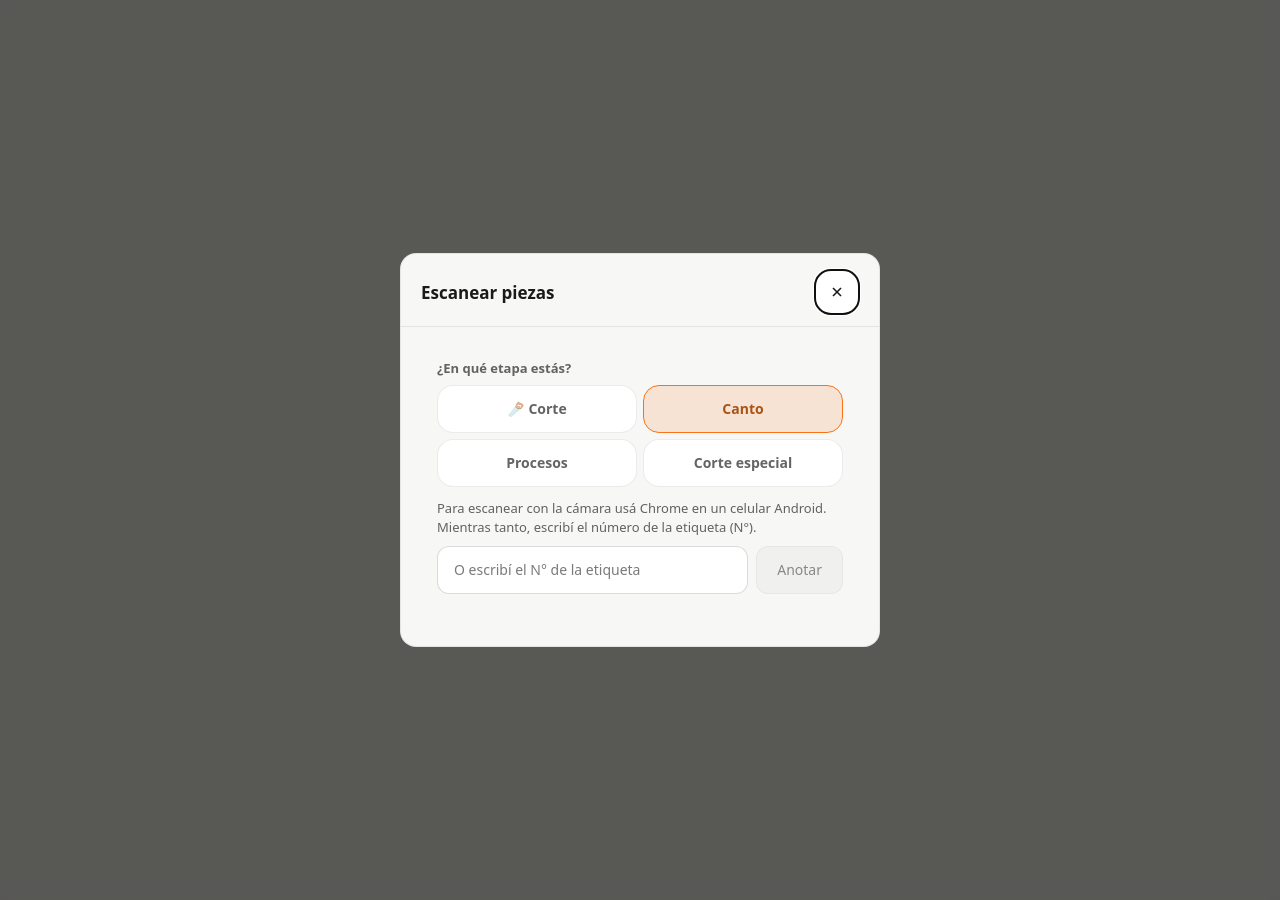
Test: operario — con una tarea de Canto en curso, la etapa ya viene elegida; anota y muestra en verde
The image size is (1280, 900).
Type "N° 7" into the field named "Número de la pieza" at (593, 570), box [437, 546, 748, 594]
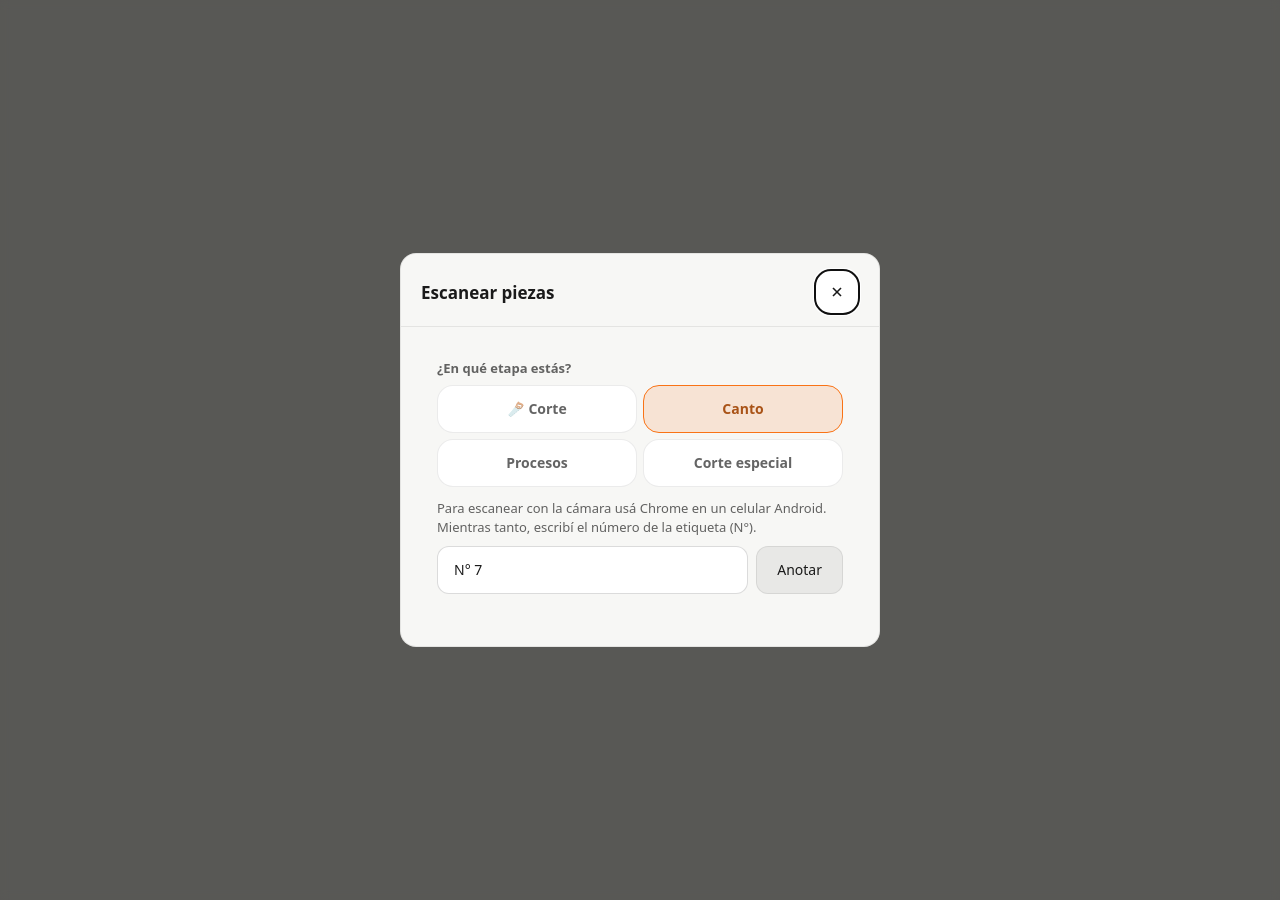
Click the button "Anotar" at (800, 570), box [756, 546, 843, 594]
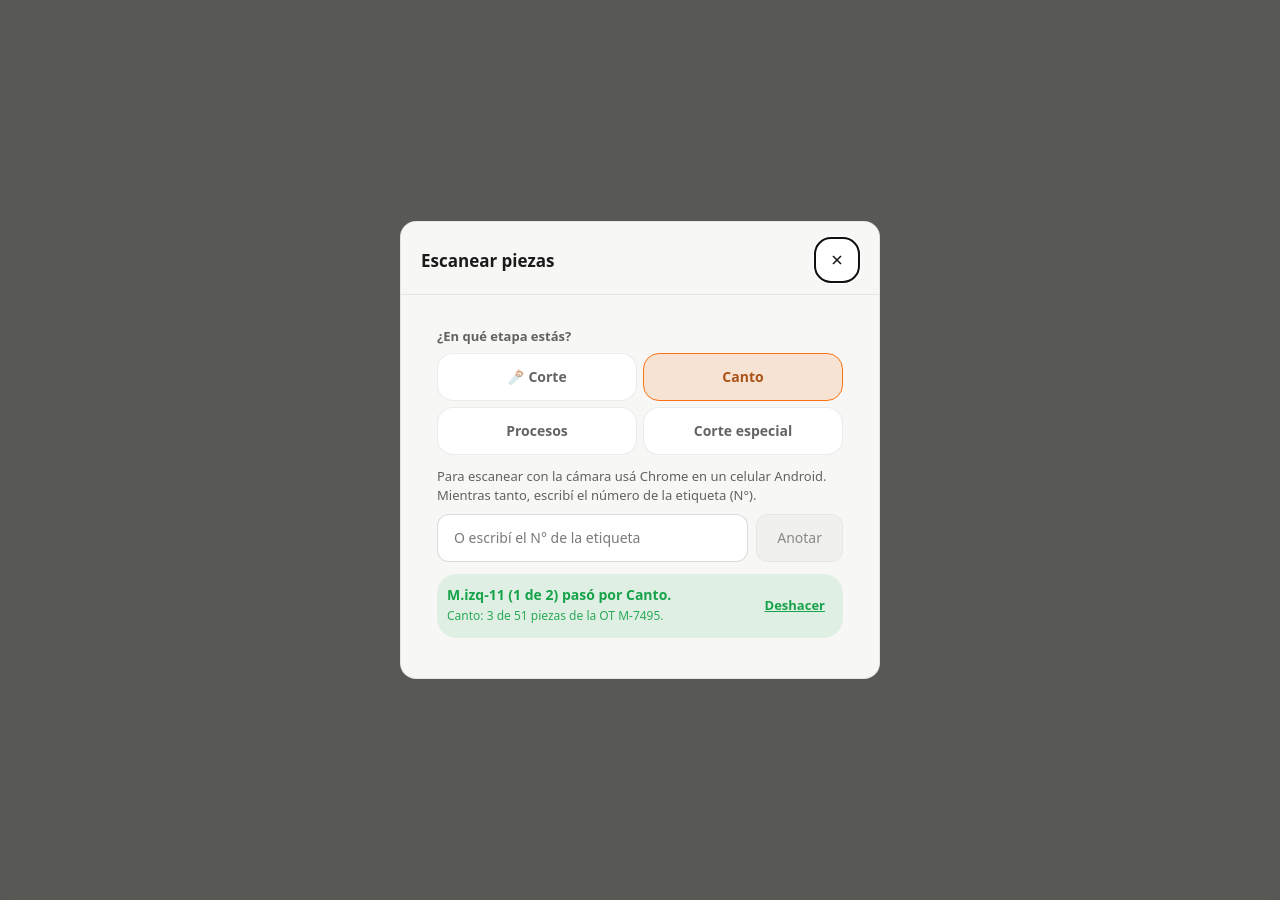
expect the text "M.izq-11 (1 de 2) pasó por Canto." is shown: met, box [447, 585, 671, 604]
expect the text "Canto: 3 de 51 piezas de la OT M-7495." is shown: met, box [447, 607, 664, 624]
Click the button "Deshacer" at (795, 606), box [757, 584, 833, 628]
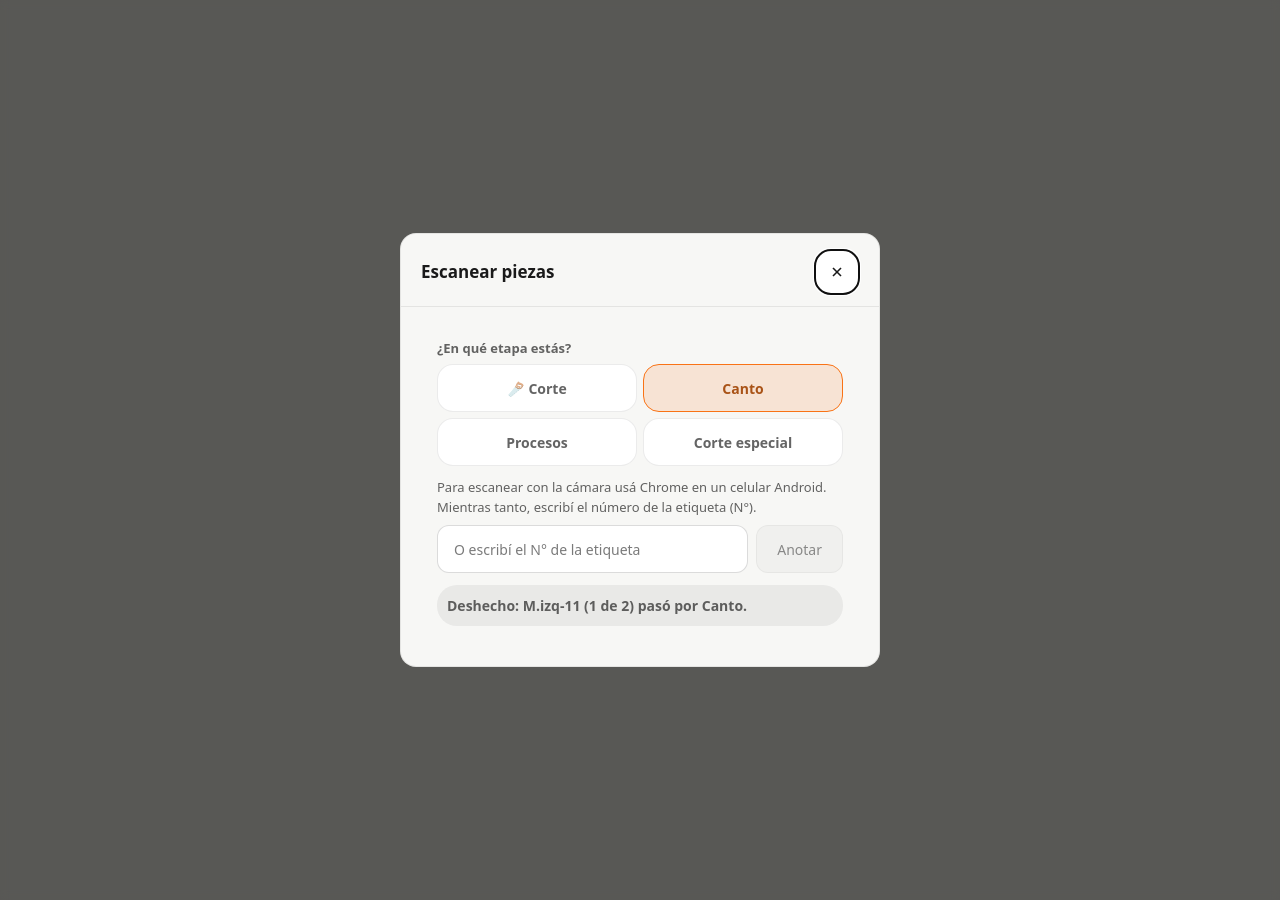
expect the text "Deshecho: M.izq-11 (1 de 2) pasó por Canto." is shown: met, box [447, 596, 747, 615]
